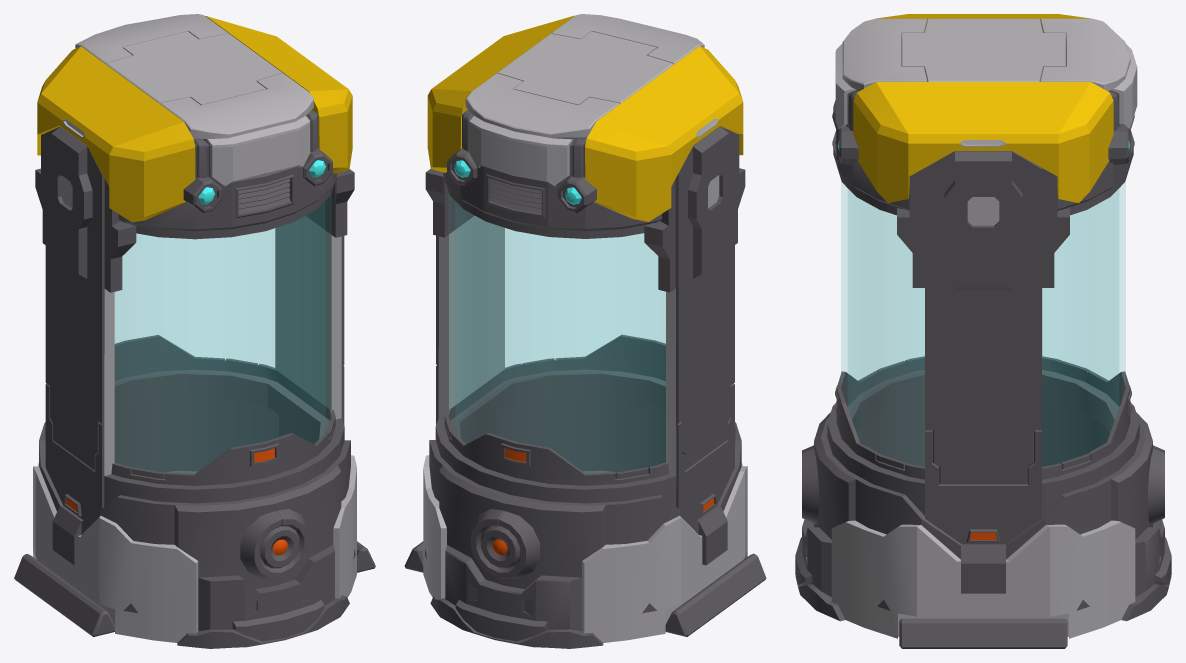
The model's file is SM_Props_Laboratory_02.fbx.
3 views of the same model, side by side, from view 1: azimuth 30°, elevation 25°; view 2: azimuth 150°, elevation 25°; view 3: azimuth 270°, elevation 25° (orthographic). The views are drawn at different scales.
Parts seen in each view (by area): view 1: SM_Props_Laboratory_02; view 2: SM_Props_Laboratory_02; view 3: SM_Props_Laboratory_02.
Part boxes in pixels (bbox=[...]): SM_Props_Laboratory_02: bbox=[14, 14, 375, 648]; SM_Props_Laboratory_02: bbox=[404, 14, 766, 648]; SM_Props_Laboratory_02: bbox=[795, 14, 1171, 648].
Bounding box in the file's own units: 2.5 × 4.26 × 2.76.
